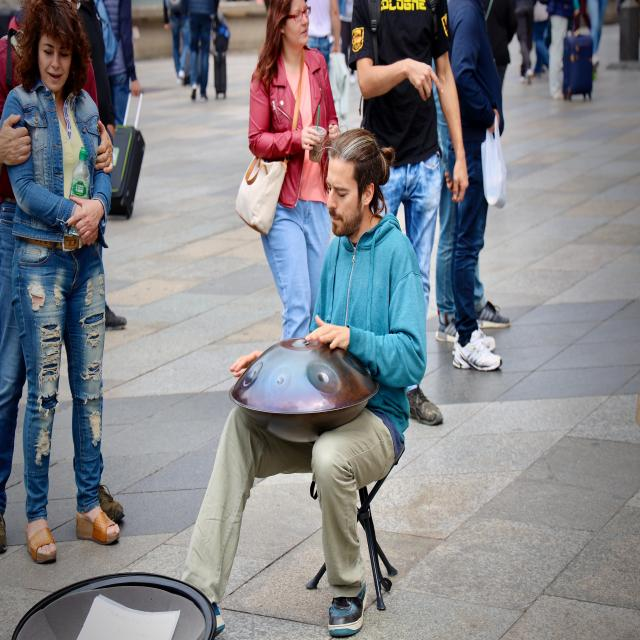nonfall: (193, 129, 433, 595), (12, 12, 118, 574), (252, 0, 328, 327)
